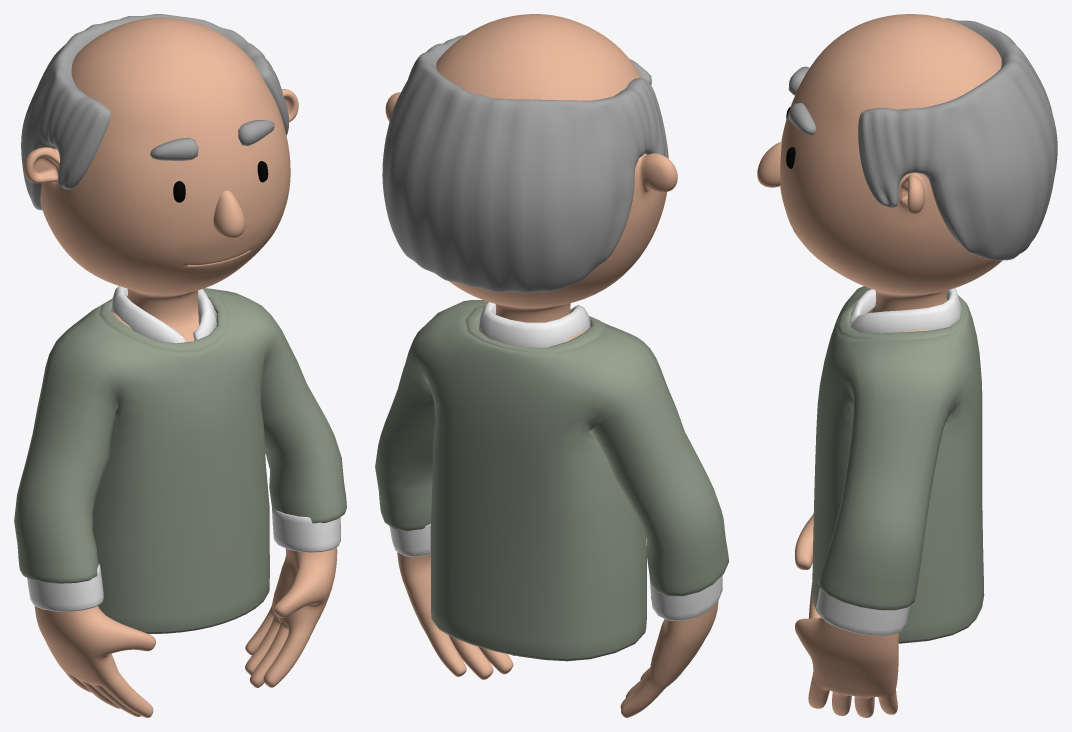
3 renders of one model, left to right at view 1: azimuth 30°, elevation 25°; view 2: azimuth 150°, elevation 25°; view 3: azimuth 270°, elevation 25°, orthographic. The views are drawn at different scales.
Parts seen in each view (by area): view 1: Jumper, body, Hair_5, Eyebrow.007, nose; view 2: Jumper, Hair_5, body; view 3: Jumper, body, Hair_5, Eyebrow.007, nose.
Part boxes in pixels (left/top/right/bottom): Jumper: left=14, top=286, right=346, bottom=633; body: left=24, top=17, right=337, bottom=717; Hair_5: left=21, top=14, right=288, bottom=210; Eyebrow.007: left=150, top=120, right=274, bottom=160; nose: left=213, top=190, right=245, bottom=238; Jumper: left=375, top=300, right=728, bottom=661; Hair_5: left=382, top=35, right=667, bottom=293; body: left=385, top=14, right=718, bottom=717; Jumper: left=812, top=286, right=984, bottom=643; body: left=780, top=14, right=1002, bottom=717; Hair_5: left=858, top=18, right=1057, bottom=260; Eyebrow.007: left=788, top=66, right=816, bottom=135; nose: left=757, top=142, right=781, bottom=187.
Bounding box in the file's own units: 6.38 × 12.67 × 5.21.
